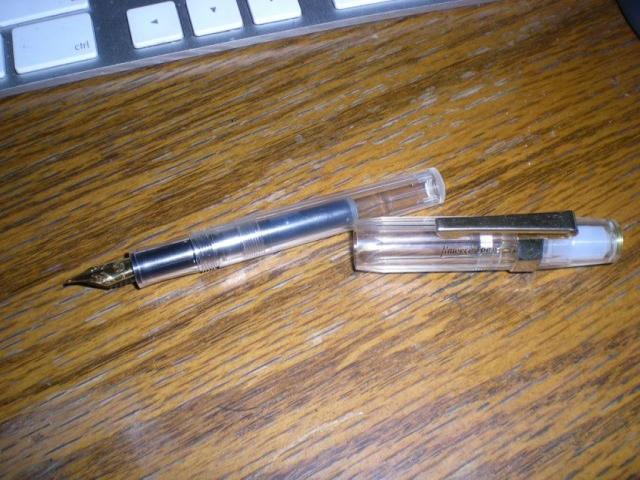PEN: (55, 181, 640, 312)
